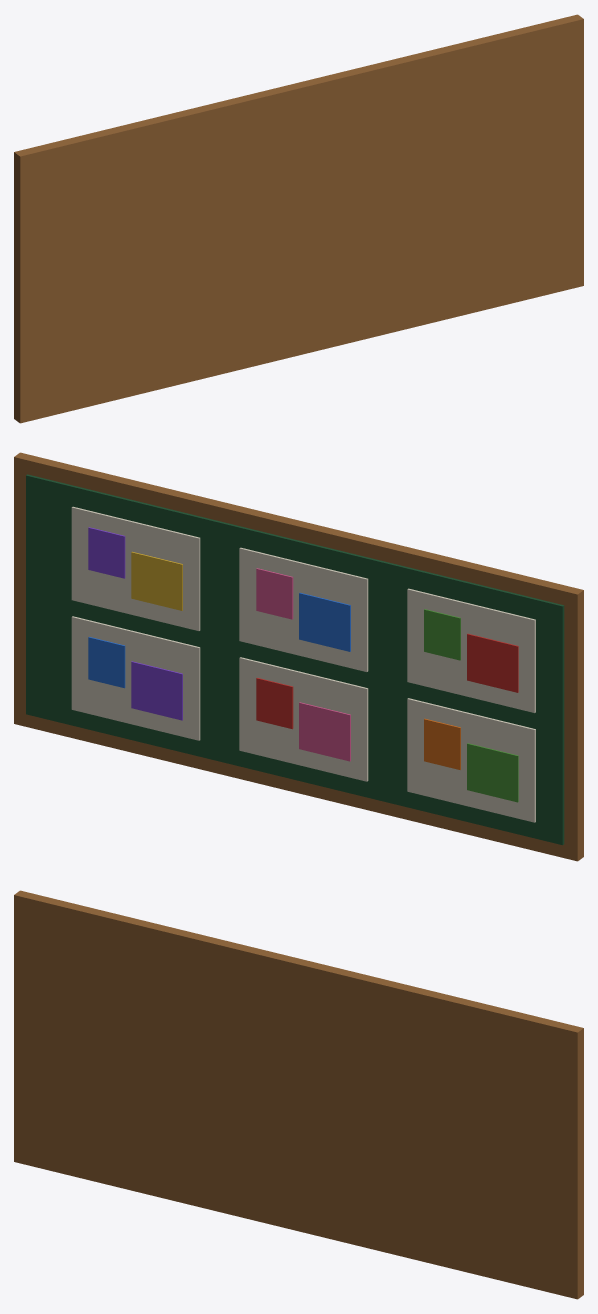
The model's file is th-art-board.glb.
3 renders of one model, top to bottom at view 1: azimuth 30°, elevation 25°; view 2: azimuth 150°, elevation 25°; view 3: azimuth 330°, elevation 25°, orthographic.
Visible parts, largest first — view 1: box-prop; view 2: box-prop; view 3: box-prop.
Boxes of the visible parts, bbox=[...] form: box-prop: bbox=[14, 14, 583, 423]; box-prop: bbox=[14, 452, 583, 861]; box-prop: bbox=[14, 890, 583, 1299].
Bounding box in the file's own units: 4.2 × 1.9 × 0.125.
